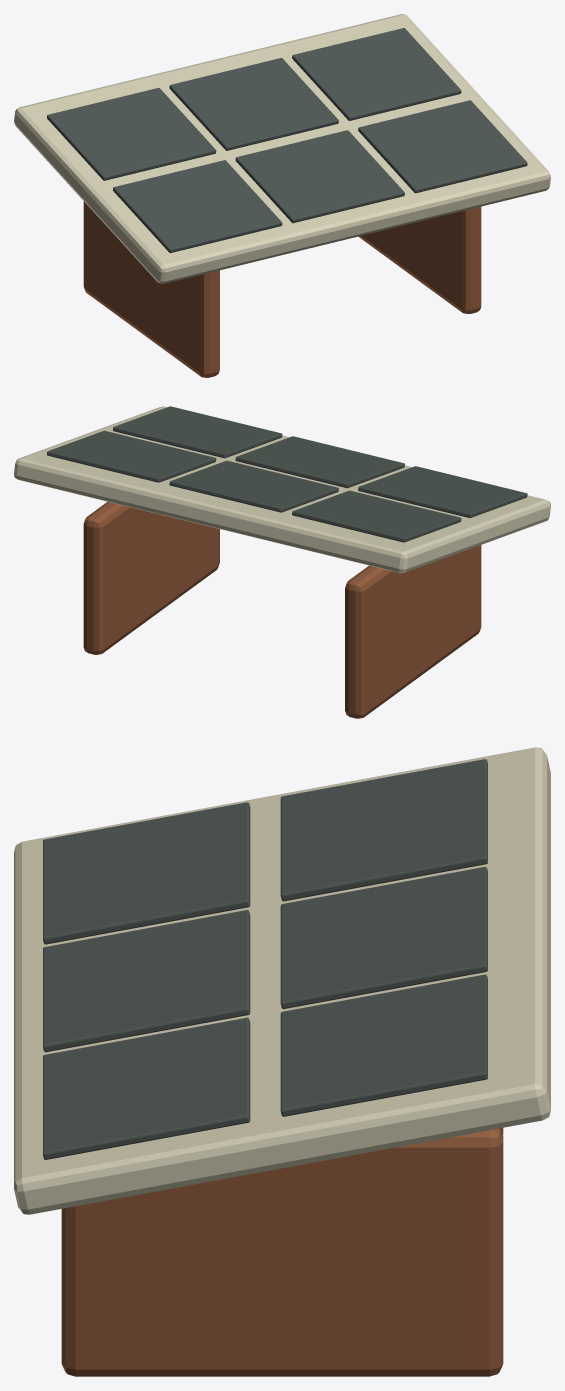
File: Collapsed_Solar_Panel_Barren.glb
3 views of the same model, one above another, from view 1: azimuth 30°, elevation 25°; view 2: azimuth 150°, elevation 25°; view 3: azimuth 270°, elevation 25° (orthographic). The views are drawn at different scales.
Visible parts, largest first — view 1: Structure; view 2: Structure; view 3: Structure.
Part boxes in pixels (box(x1,y1,x2,y2)): Structure: box(14, 14, 550, 377); Structure: box(14, 406, 550, 718); Structure: box(14, 747, 550, 1376).
Size of the model in its own units: 2.4 by 1.11 by 1.58.
